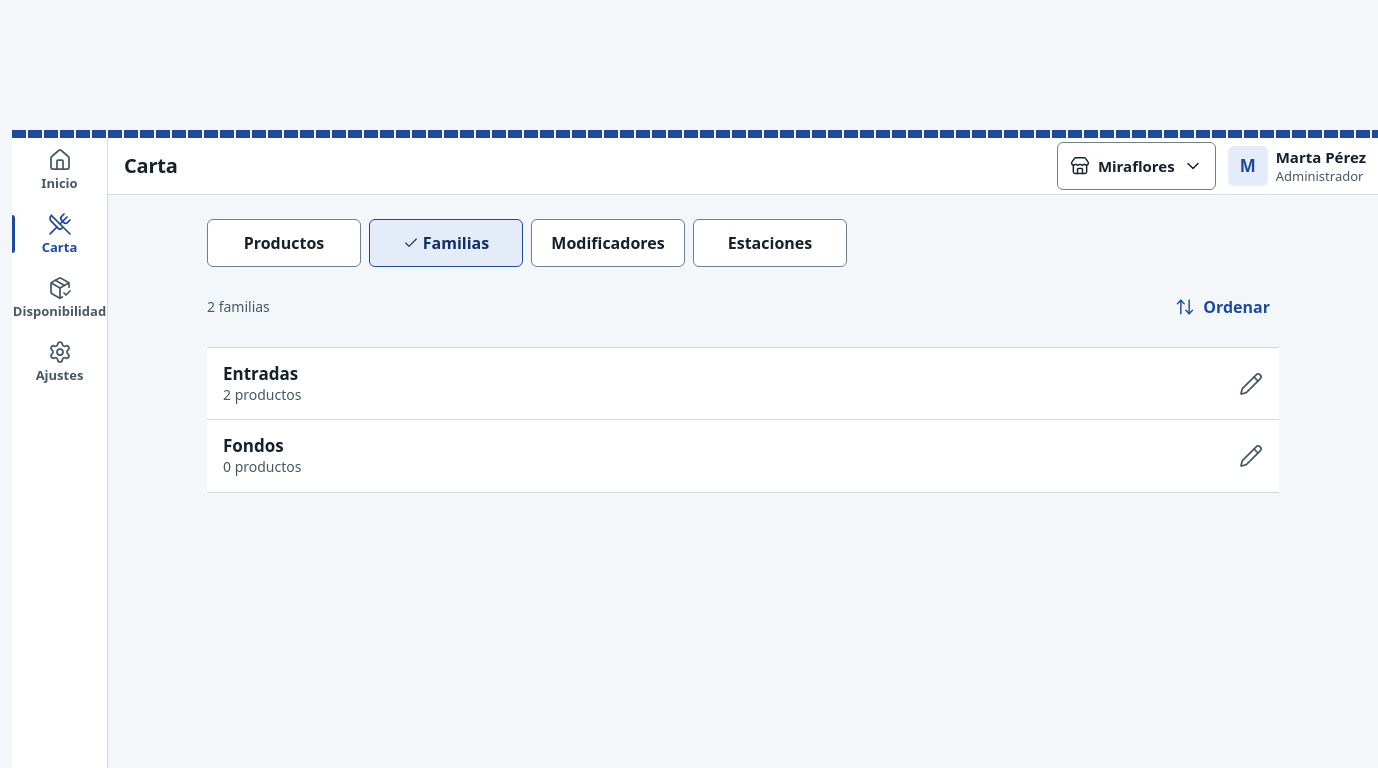
Test: secciones: familias y estaciones › una familia con productos activos no se puede desactivar y dice por qué; sin ellos, sí
Later steps or results of the test are not shown.
(page scrolled)
Click the button with aria-label "Editar Entradas" at (261, 373), box [207,348,1279,420]
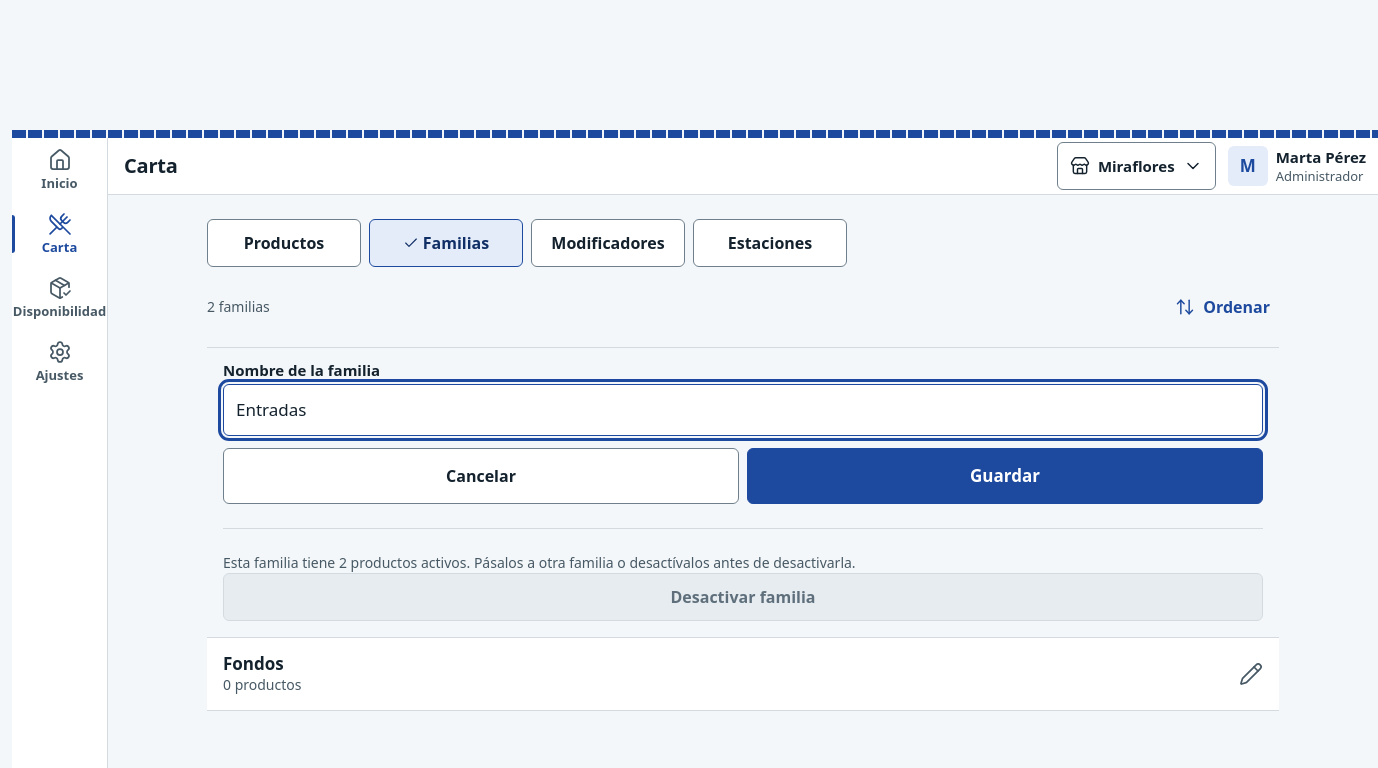
Check: the text "tiene 2 productos activos" is shown, box [223,553,856,572]
Check: the button "Desactivar familia" is disabled, box [223,573,1263,621]
